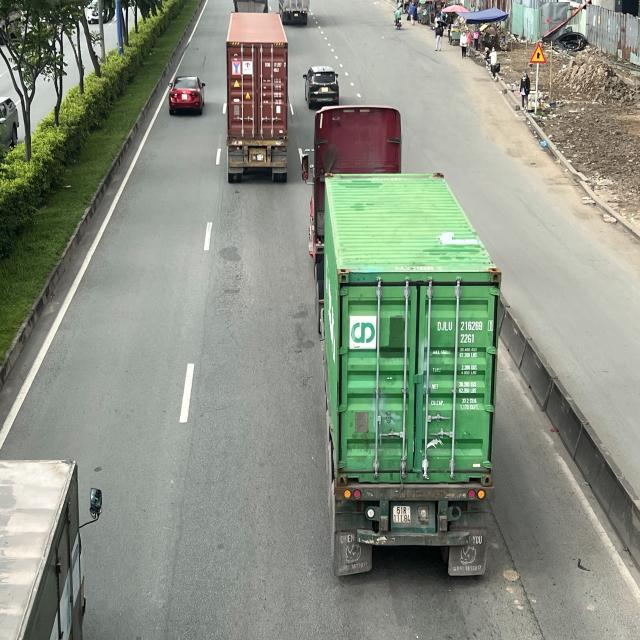car: (303, 66, 342, 109), (168, 76, 206, 116)
container: (304, 108, 503, 577), (227, 2, 288, 184)
